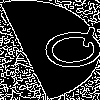Q: (25, 25, 100, 77)
